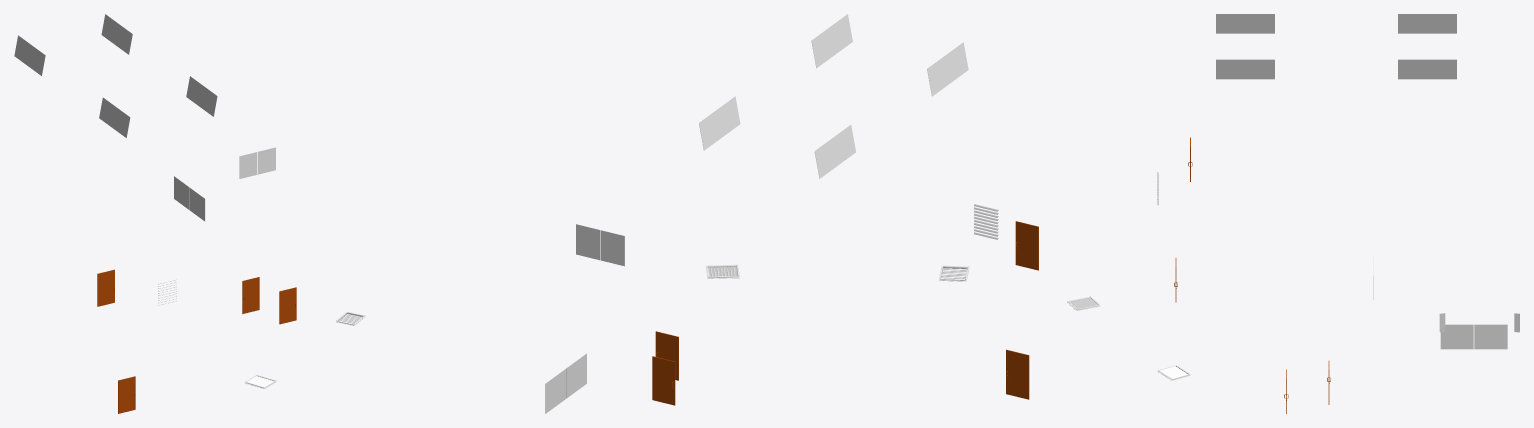
The model's file is interactives.glb.
3 renders of one model, left to right at view 1: azimuth 30°, elevation 25°; view 2: azimuth 150°, elevation 25°; view 3: azimuth 270°, elevation 25°, orthographic. The views are drawn at different scales.
Parts seen in each view (by area): view 1: nuke:door:4, nuke:door:2, nuke:door:5, nuke:door:3, nuke:breakable:11, nuke:breakable:12, nuke:breakable:10, nuke:breakable:9, nuke:breakable:19, nuke:breakable:13, nuke:breakable:16, nuke:breakable:18 (+4 smaller); view 2: nuke:door:4, nuke:door:5, nuke:door:2, nuke:breakable:12, nuke:breakable:11, nuke:door:3, nuke:breakable:8, nuke:breakable:9, nuke:breakable:10, nuke:breakable:17, nuke:breakable:19, nuke:breakable:15 (+5 smaller); view 3: nuke:breakable:9, nuke:breakable:10, nuke:breakable:17, nuke:breakable:20, nuke:breakable:18, nuke:breakable:19, nuke:breakable:14, nuke:breakable:15, nuke:breakable:16, nuke:breakable:13.
Boxes of the visible parts, left/top/right/bottom form: nuke:door:4: left=118, top=376, right=135, bottom=413; nuke:door:2: left=242, top=277, right=259, bottom=313; nuke:door:5: left=97, top=269, right=114, bottom=306; nuke:door:3: left=279, top=287, right=296, bottom=324; nuke:breakable:11: left=239, top=152, right=257, bottom=178; nuke:breakable:12: left=258, top=147, right=275, bottom=174; nuke:breakable:10: left=189, top=187, right=205, bottom=221; nuke:breakable:9: left=174, top=176, right=189, bottom=209; nuke:breakable:19: left=186, top=76, right=203, bottom=106; nuke:breakable:13: left=99, top=97, right=116, bottom=127; nuke:breakable:16: left=28, top=45, right=45, bottom=75; nuke:breakable:18: left=115, top=24, right=132, bottom=54; nuke:door:4: left=1006, top=349, right=1029, bottom=399; nuke:door:5: left=1015, top=221, right=1038, bottom=270; nuke:door:2: left=652, top=356, right=675, bottom=405; nuke:breakable:12: left=576, top=224, right=600, bottom=260; nuke:breakable:11: left=600, top=230, right=624, bottom=266; nuke:door:3: left=655, top=331, right=678, bottom=380; nuke:breakable:8: left=974, top=204, right=998, bottom=239; nuke:breakable:9: left=545, top=368, right=565, bottom=413; nuke:breakable:10: left=566, top=353, right=586, bottom=398; nuke:breakable:17: left=699, top=109, right=722, bottom=150; nuke:breakable:19: left=811, top=27, right=834, bottom=68; nuke:breakable:15: left=814, top=138, right=837, bottom=178; nuke:breakable:9: left=1474, top=324, right=1507, bottom=349; nuke:breakable:10: left=1440, top=324, right=1473, bottom=349; nuke:breakable:17: left=1427, top=59, right=1456, bottom=79; nuke:breakable:20: left=1216, top=59, right=1245, bottom=79; nuke:breakable:18: left=1398, top=59, right=1427, bottom=79; nuke:breakable:19: left=1245, top=59, right=1274, bottom=79; nuke:breakable:14: left=1216, top=14, right=1245, bottom=33; nuke:breakable:15: left=1427, top=14, right=1456, bottom=33; nuke:breakable:16: left=1398, top=14, right=1427, bottom=33; nuke:breakable:13: left=1245, top=14, right=1274, bottom=33.
Size of the model in its own units: 1159 by 918 by 1274.
